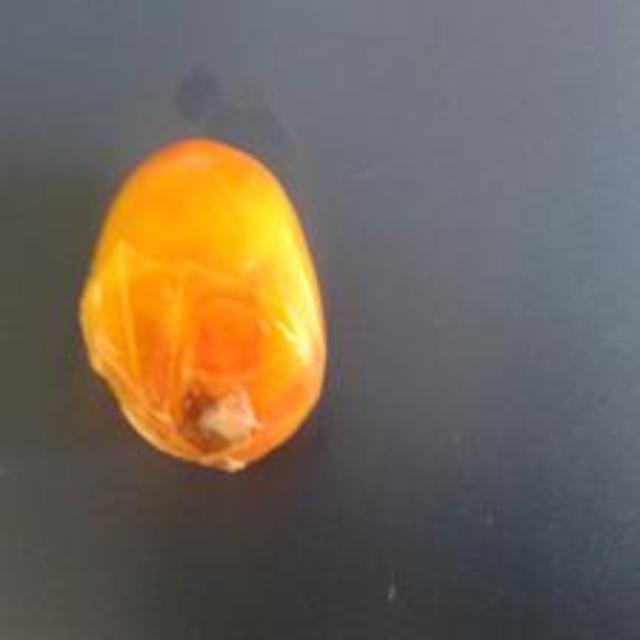defect: (74, 129, 333, 476)
